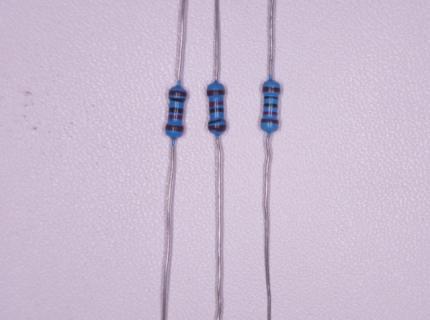Black band: (169, 107, 184, 113), (264, 103, 278, 108), (169, 98, 186, 102), (209, 109, 224, 113), (264, 96, 278, 100), (209, 120, 226, 123)
Brown band: (165, 124, 183, 132), (168, 90, 187, 97), (208, 125, 226, 131), (207, 90, 224, 96), (261, 119, 279, 124), (262, 87, 280, 92)
Red band: (209, 101, 224, 106), (168, 115, 183, 119), (263, 111, 278, 115)
